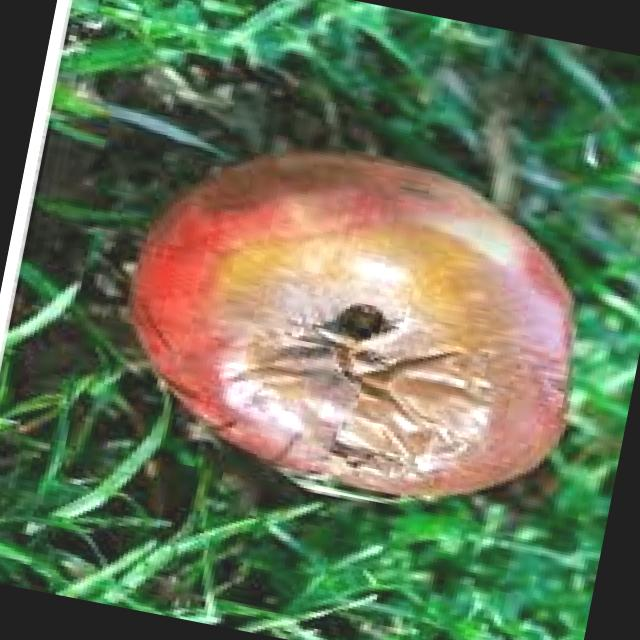Rotten Apple: (100, 118, 612, 530)
